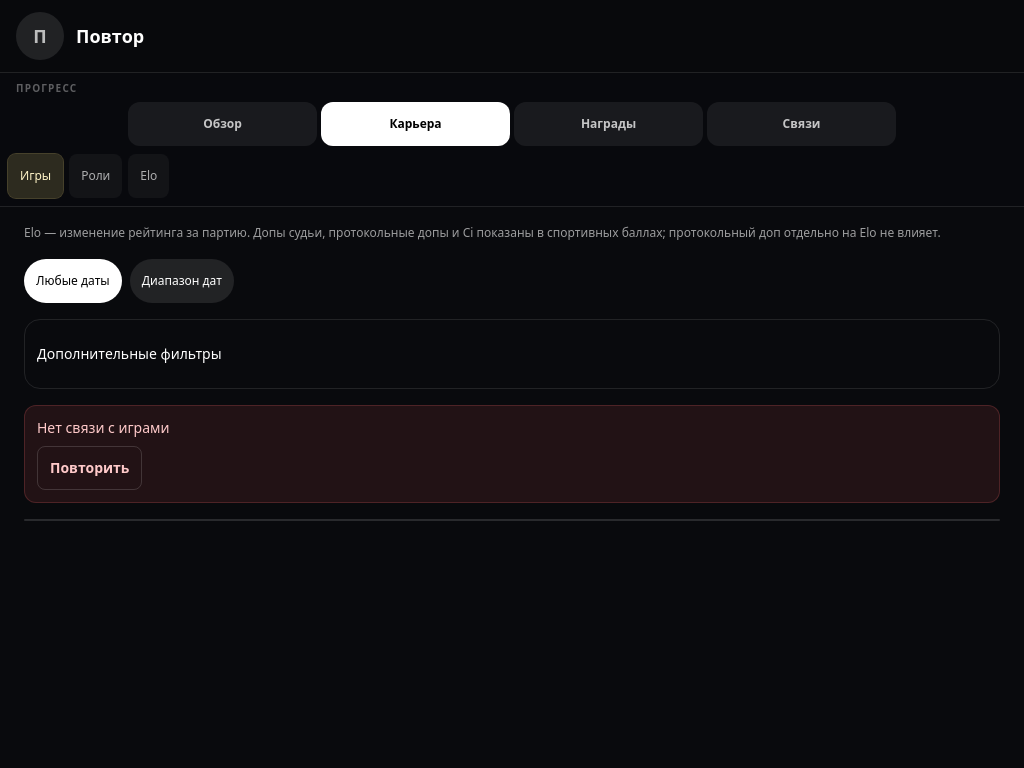
Test case: keeps a failed games request distinct from a confirmed empty result and offers retry
Expected: the text "Нет связи с играми" is shown, [37, 418, 170, 437]
Expected: the text "По выбранным фильтрам игр нет." is not shown
Click the button "Повторить": click(90, 468) [37, 446, 142, 490]
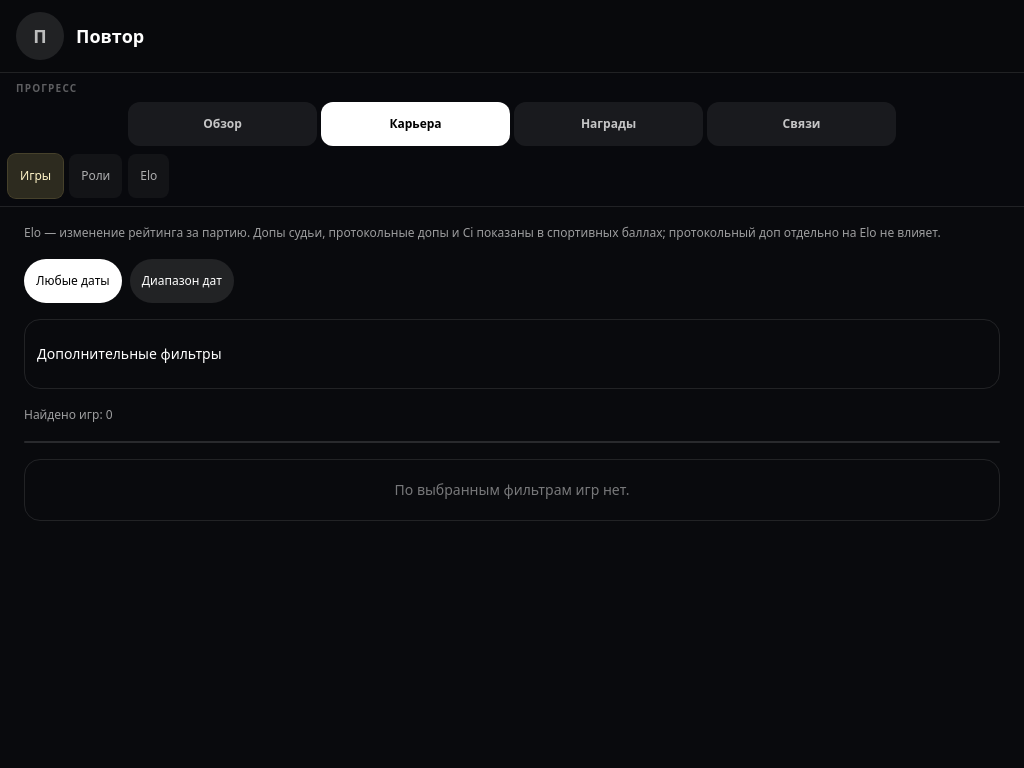
Result: the text "По выбранным фильтрам игр нет." is shown at [24, 459, 1000, 521]
